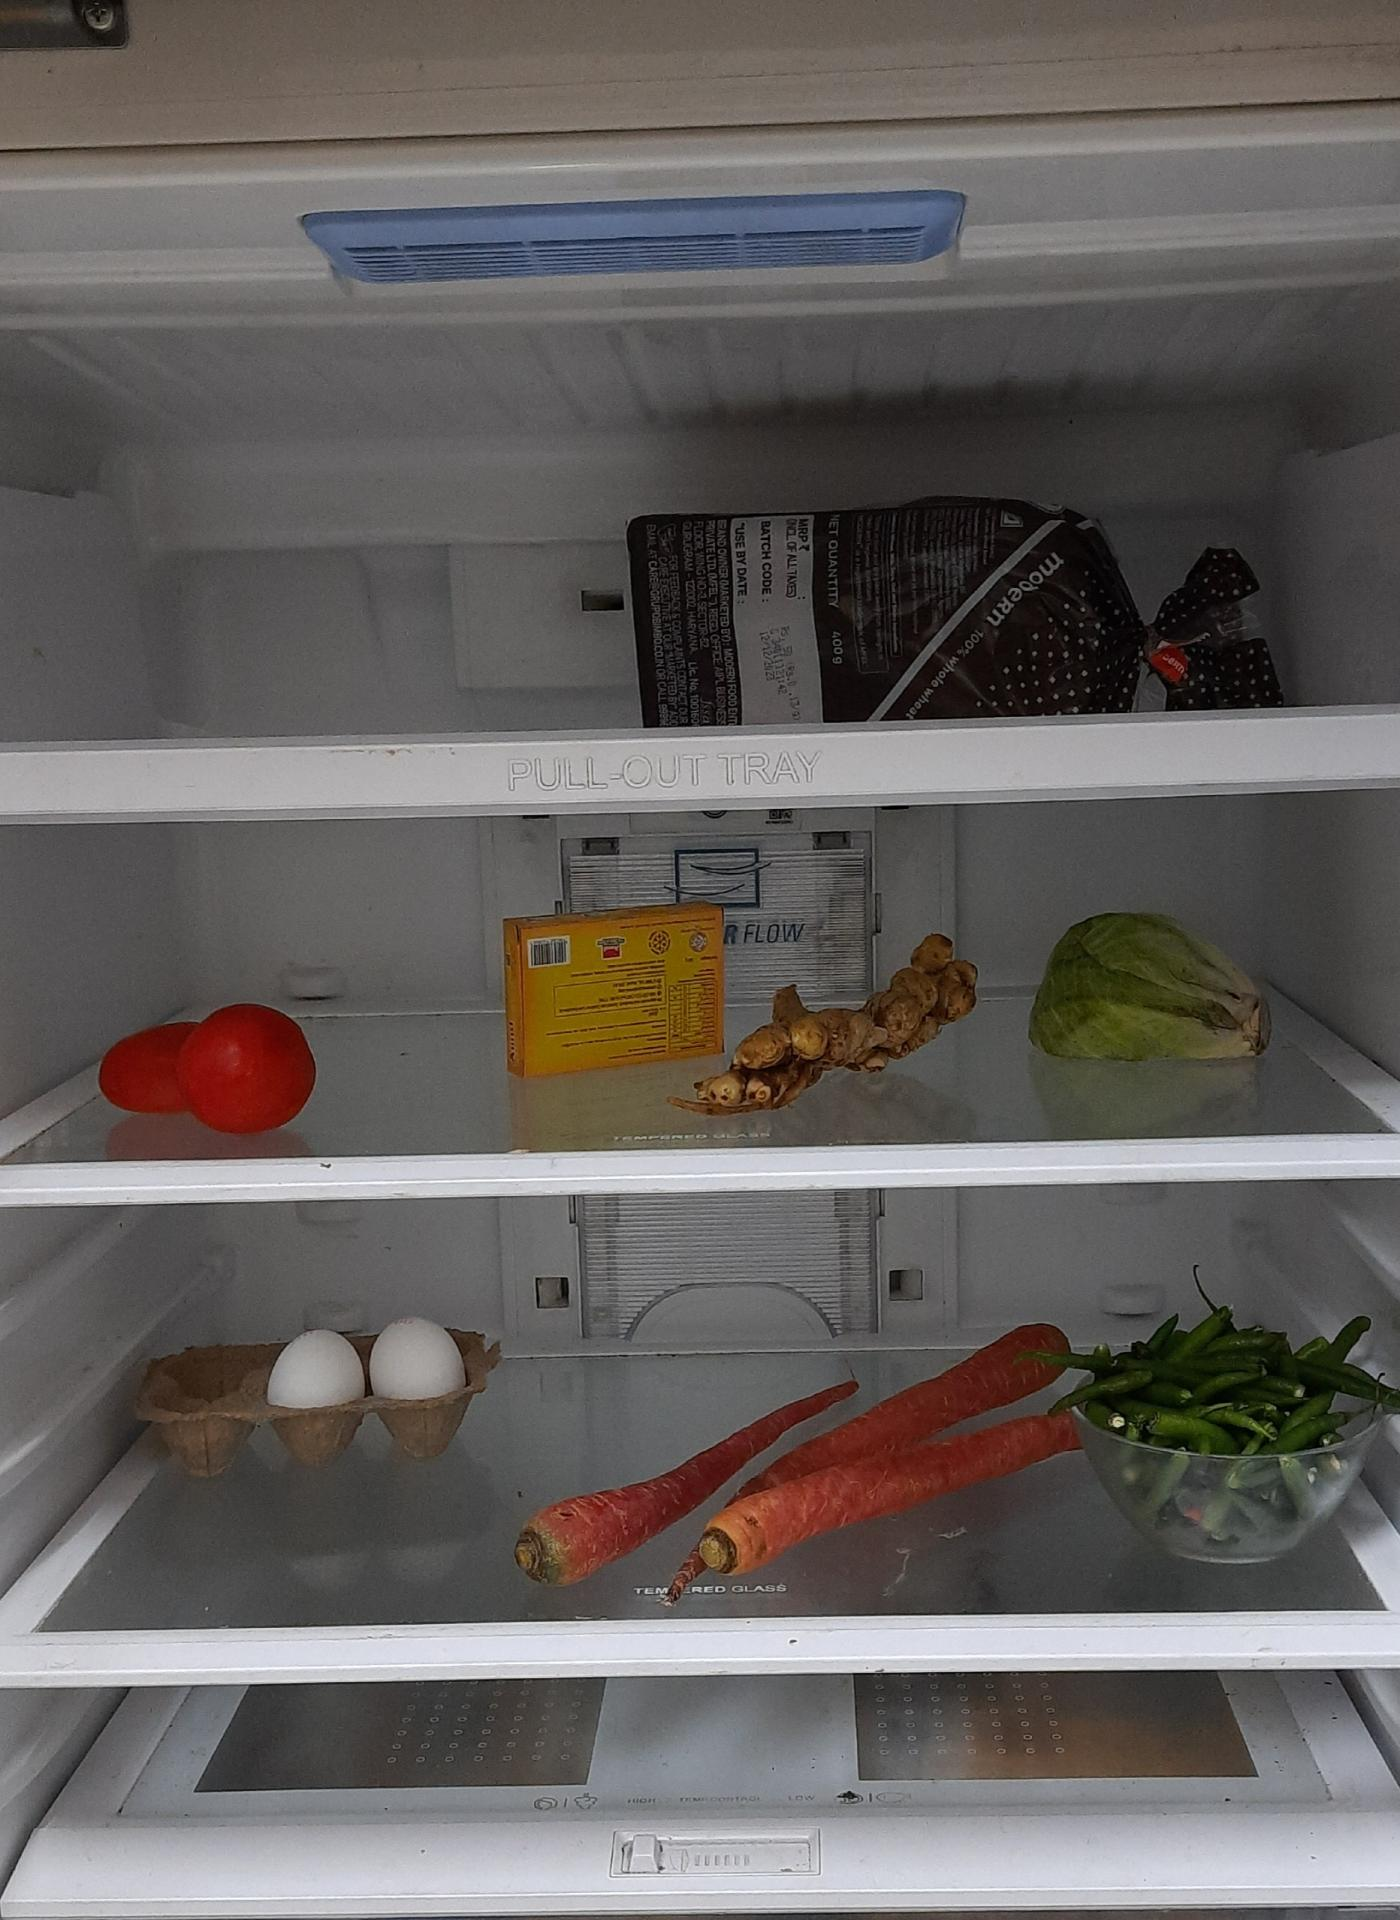bread: (634, 486, 1282, 721)
butter: (504, 911, 728, 1085)
cabbage: (1029, 911, 1276, 1063)
carrots: (516, 1315, 1096, 1602)
chillies: (1088, 1313, 1382, 1543)
egg: (273, 1318, 479, 1421)
ginger: (689, 936, 996, 1109), (137, 1336, 286, 1473)
tomato: (101, 1006, 324, 1136)
